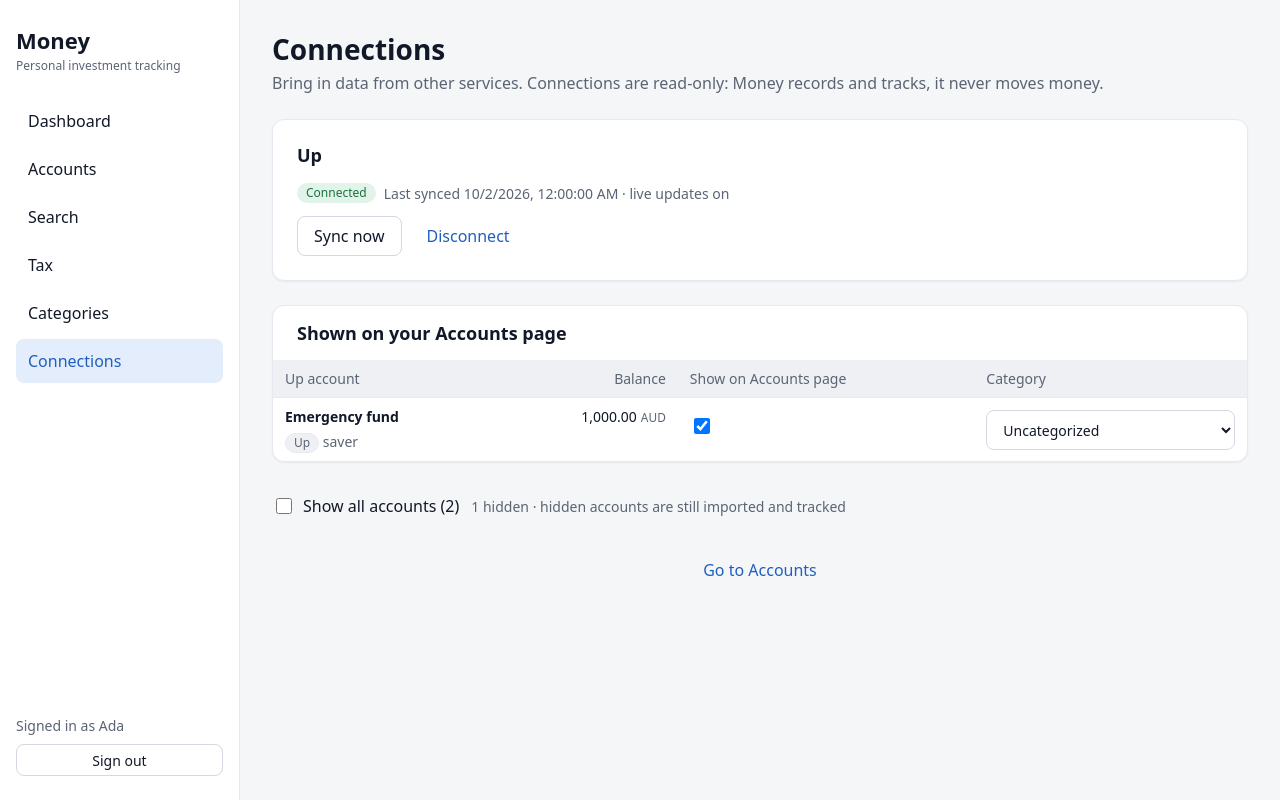
Test: connections › keeps hidden accounts behind a show-all toggle on the Accounts page
Expected: the heading "Shown on your Accounts page" is shown, [297, 322, 567, 344]
Expected: the text "Spending" is not shown
Step 1. Click the checkbox labelled "Show all accounts (2)" → x=284, y=506, box [276, 498, 292, 514]
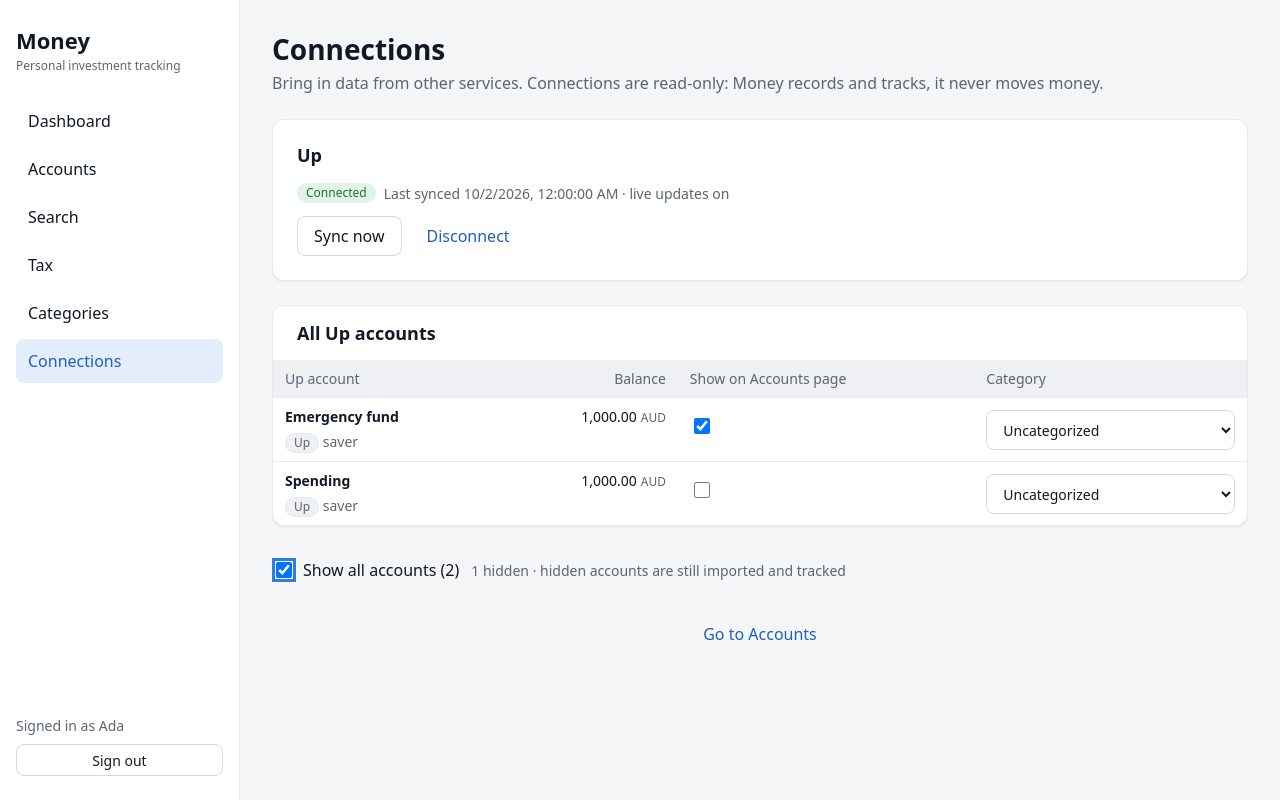
Now the text "Spending" is shown, box [285, 471, 350, 490]
